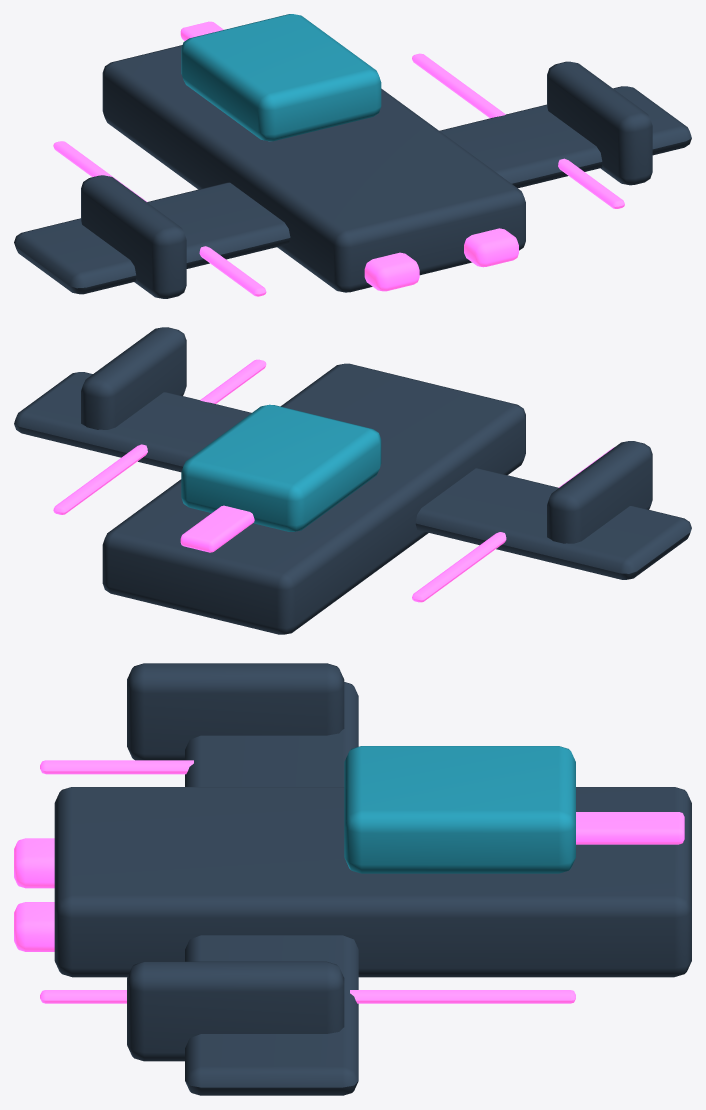
File: ship_1.glb
The picture shows the model from 3 angles, top to bottom: view 1: azimuth 30°, elevation 25°; view 2: azimuth 150°, elevation 25°; view 3: azimuth 270°, elevation 25°; orthographic projection. The views are drawn at different scales.
Parts seen in each view (by area): view 1: Raptor fuselage, Raptor wing, Raptor canopy, Raptor fin, Raptor fin.001, Raptor rail.001, Raptor rail, Raptor jet, Raptor jet.001, Raptor crest; view 2: Raptor fuselage, Raptor wing, Raptor canopy, Raptor fin.001, Raptor fin, Raptor rail.001, Raptor crest, Raptor rail; view 3: Raptor fuselage, Raptor canopy, Raptor wing, Raptor fin.001, Raptor fin, Raptor rail.001, Raptor crest, Raptor rail, Raptor jet, Raptor jet.001.
Boxes of the visible parts, x1,y1,x2,y2 form: Raptor fuselage: [102, 45, 525, 292]; Raptor wing: [14, 86, 691, 294]; Raptor canopy: [181, 14, 381, 141]; Raptor fin: [81, 175, 186, 298]; Raptor fin.001: [547, 61, 652, 185]; Raptor rail.001: [412, 53, 624, 208]; Raptor rail: [53, 141, 266, 296]; Raptor jet: [364, 252, 419, 291]; Raptor jet.001: [464, 228, 518, 267]; Raptor crest: [180, 21, 223, 40]; Raptor fuselage: [102, 363, 525, 634]; Raptor wing: [14, 372, 691, 579]; Raptor canopy: [181, 404, 381, 531]; Raptor fin.001: [81, 327, 186, 429]; Raptor fin: [547, 441, 652, 543]; Raptor rail.001: [53, 359, 266, 514]; Raptor crest: [180, 505, 254, 552]; Raptor rail: [412, 447, 613, 602]; Raptor fuselage: [54, 787, 691, 977]; Raptor canopy: [344, 746, 575, 873]; Raptor wing: [185, 682, 358, 1095]; Raptor fin.001: [127, 961, 344, 1061]; Raptor fin: [127, 663, 344, 760]; Raptor rail.001: [40, 990, 575, 1003]; Raptor crest: [576, 812, 684, 844]; Raptor rail: [40, 760, 193, 774]; Raptor jet: [14, 838, 54, 888]; Raptor jet.001: [14, 902, 54, 951].
Bounding box in the file's own units: 6.5 × 1.1 × 4.68.
